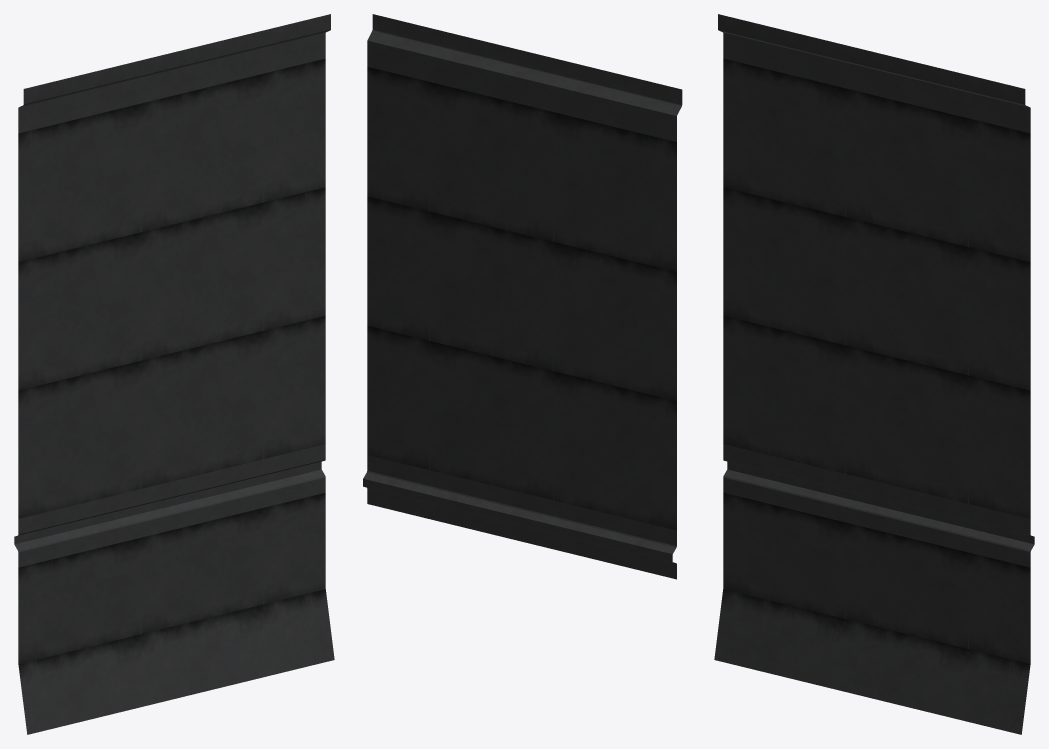
The model's file is M_Wall_Straight_10x20_v4.fbx.
3 renders of one model, left to right at view 1: azimuth 30°, elevation 25°; view 2: azimuth 150°, elevation 25°; view 3: azimuth 330°, elevation 25°, orthographic.
Visible parts, largest first — view 1: Wall_Straight_10x20_v4; view 2: Wall_Straight_10x20_v4; view 3: Wall_Straight_10x20_v4.
Part boxes in pixels (<box>): Wall_Straight_10x20_v4: <box>14,14,334,734</box>; Wall_Straight_10x20_v4: <box>363,14,682,579</box>; Wall_Straight_10x20_v4: <box>714,14,1034,734</box>.
Size of the model in its own units: 1000 by 2000 by 73.02.
